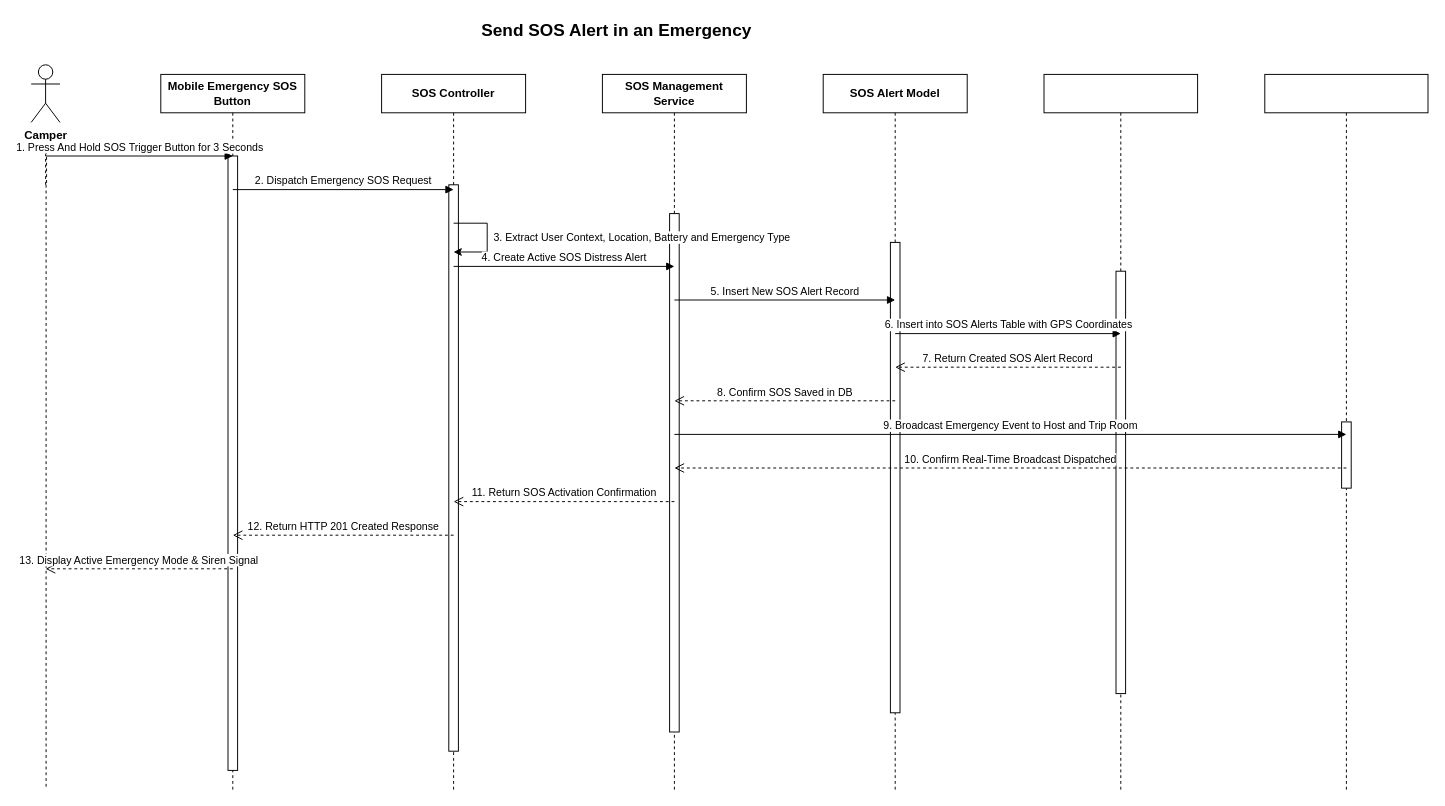
Some shapes in this 1445 by 806 pixel diagram are drawn without their labels. Here are the shapes that lost their labels. From the top down, the centre of each, then its label:
(x=1120, y=431): PostgreSQL Database
(x=1346, y=431): Socket.IO Gateway
